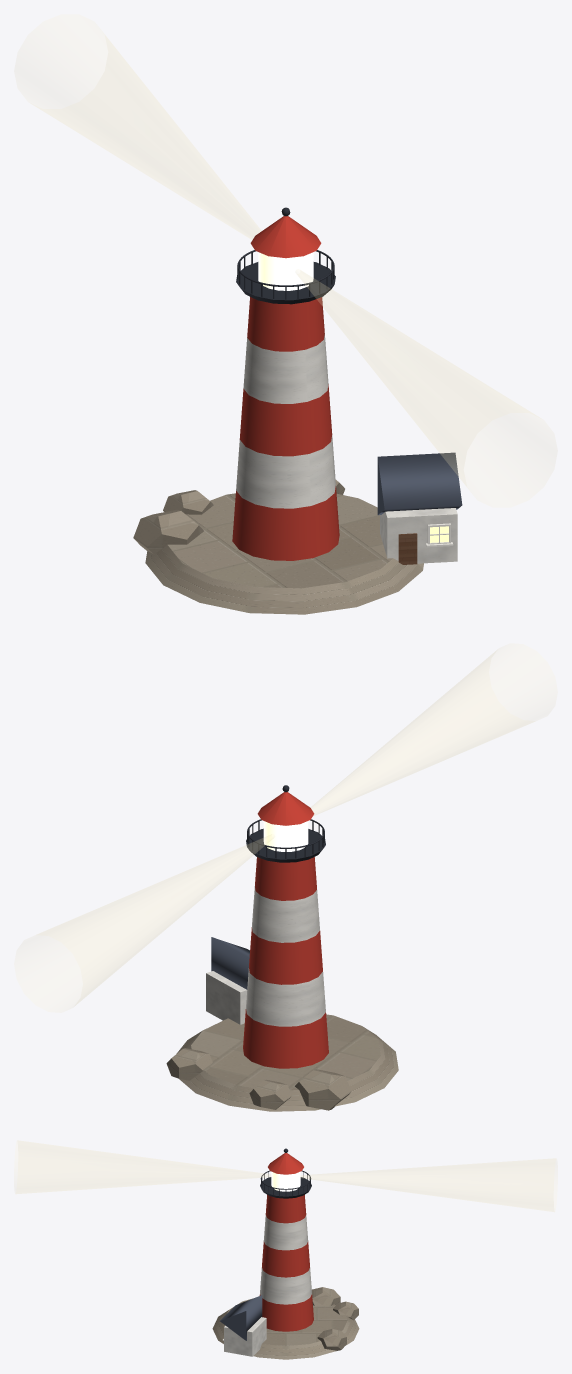
Rendered from landmark-lighthouse.glb.
3 renders of one model, top to bottom at view 1: azimuth 30°, elevation 25°; view 2: azimuth 150°, elevation 25°; view 3: azimuth 270°, elevation 25°, orthographic. The views are drawn at different scales.
Visible parts, largest first — view 1: landmark-lighthouse; view 2: landmark-lighthouse; view 3: landmark-lighthouse.
Part boxes in pixels (x1,y1,x2,y2): landmark-lighthouse: [31, 33, 540, 614]; landmark-lighthouse: [36, 650, 534, 1111]; landmark-lighthouse: [15, 1140, 556, 1359].
Size of the model in its own units: 7.89 by 10.52 by 28.13.
11 materials, 3 textured.
